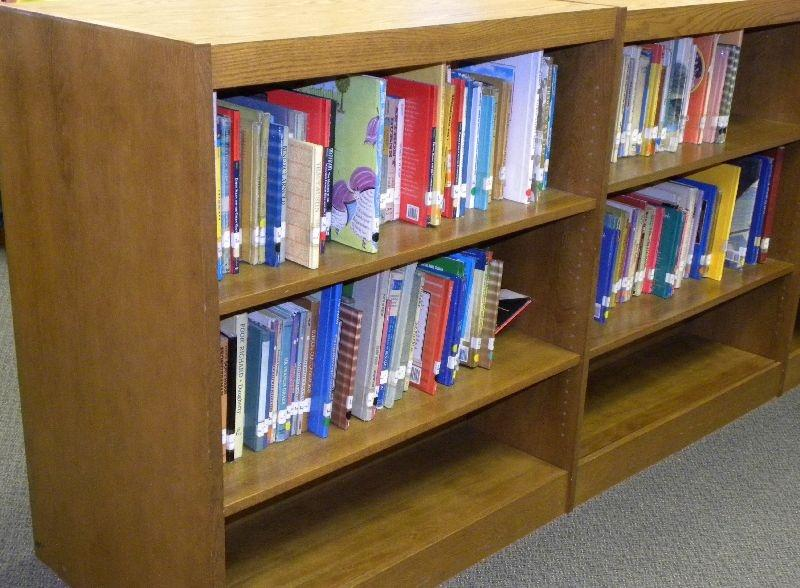Rak: (203, 5, 623, 587), (568, 0, 799, 513)
